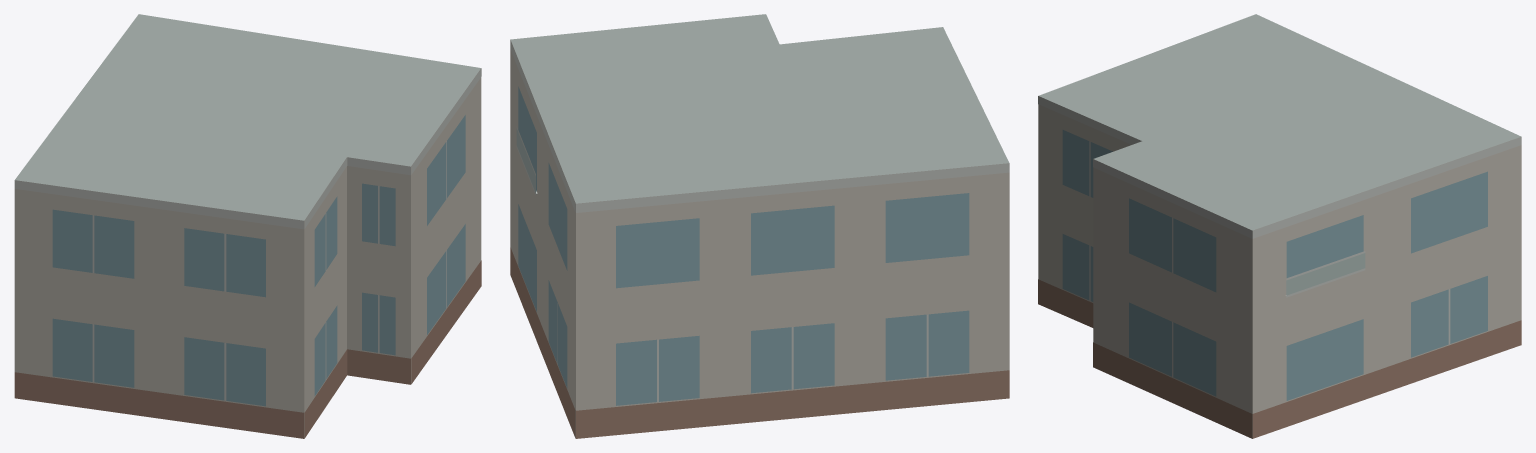
Rendered from survey-upis-32793662.glb.
3 renders of one model, left to right at view 1: azimuth 30°, elevation 25°; view 2: azimuth 150°, elevation 25°; view 3: azimuth 270°, elevation 25°, orthographic. The views are drawn at different scales.
Visible parts, largest first — view 1: survey-upis-32793662.tmp; view 2: survey-upis-32793662.tmp; view 3: survey-upis-32793662.tmp.
Boxes of the visible parts, <box> form: survey-upis-32793662.tmp: <box>14,14,481,438</box>; survey-upis-32793662.tmp: <box>510,14,1009,438</box>; survey-upis-32793662.tmp: <box>1038,14,1521,438</box>.
Bounding box in the file's own units: 13.61 × 6.1 × 12.84.
